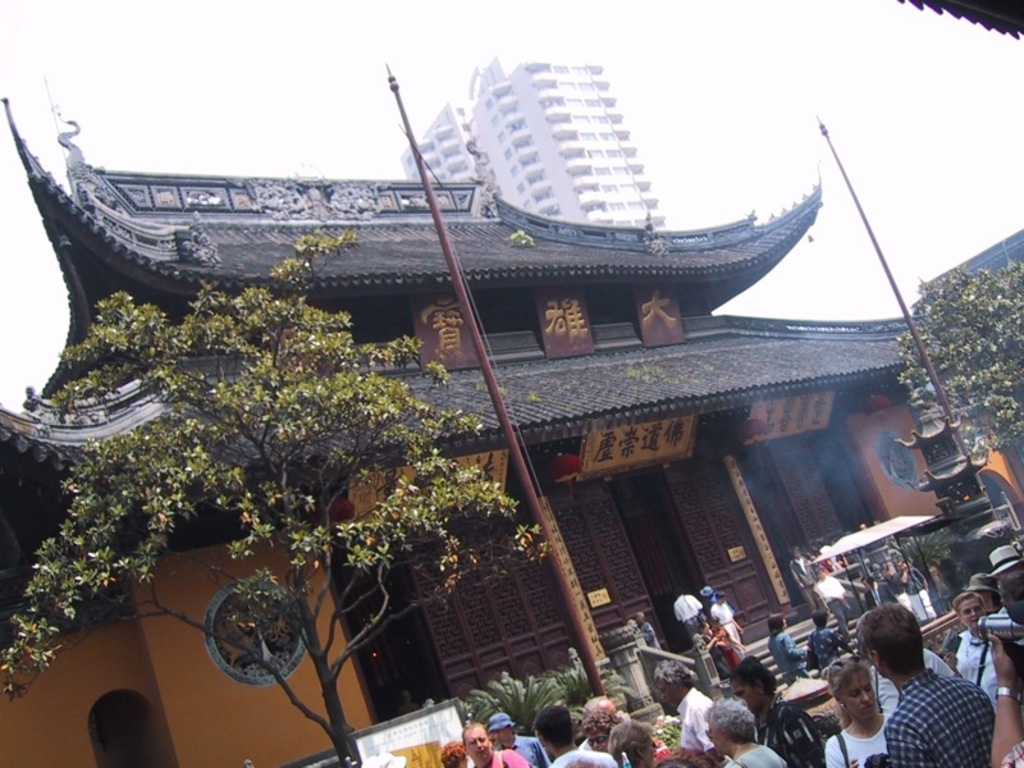Tree: (0, 226, 551, 766), (894, 259, 1022, 463)
